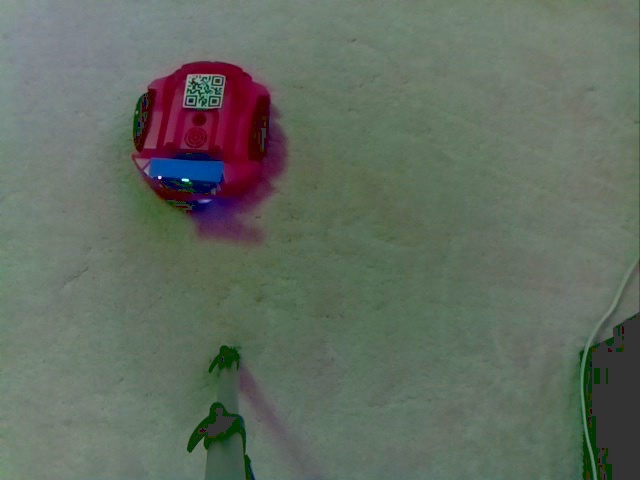board: (144, 143, 227, 198)
chassis: (131, 56, 275, 204)
